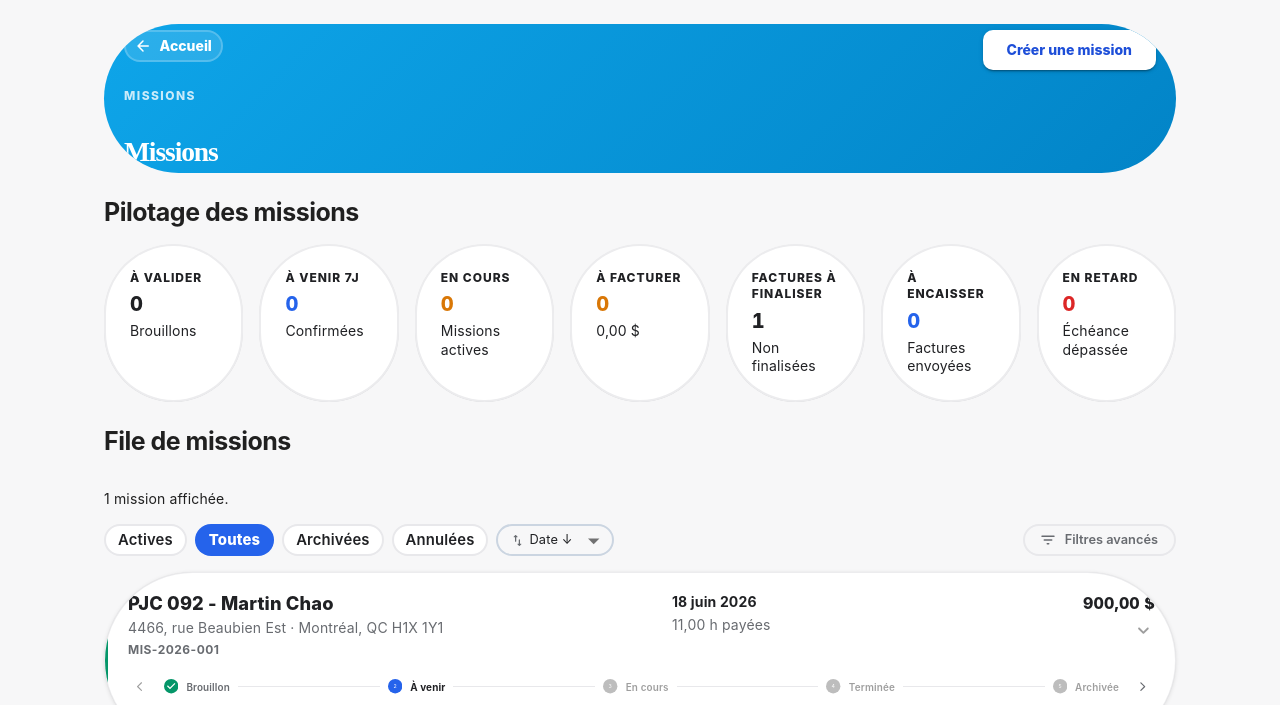
MissionsPage — bidirectional frise navigation › mission frise back step: CONFIRMED with draft invoice → confirmation dialog
The image size is (1280, 705).
Click the button named "Reculer : Mission :".
click(140, 686)  # box [128, 674, 152, 698]
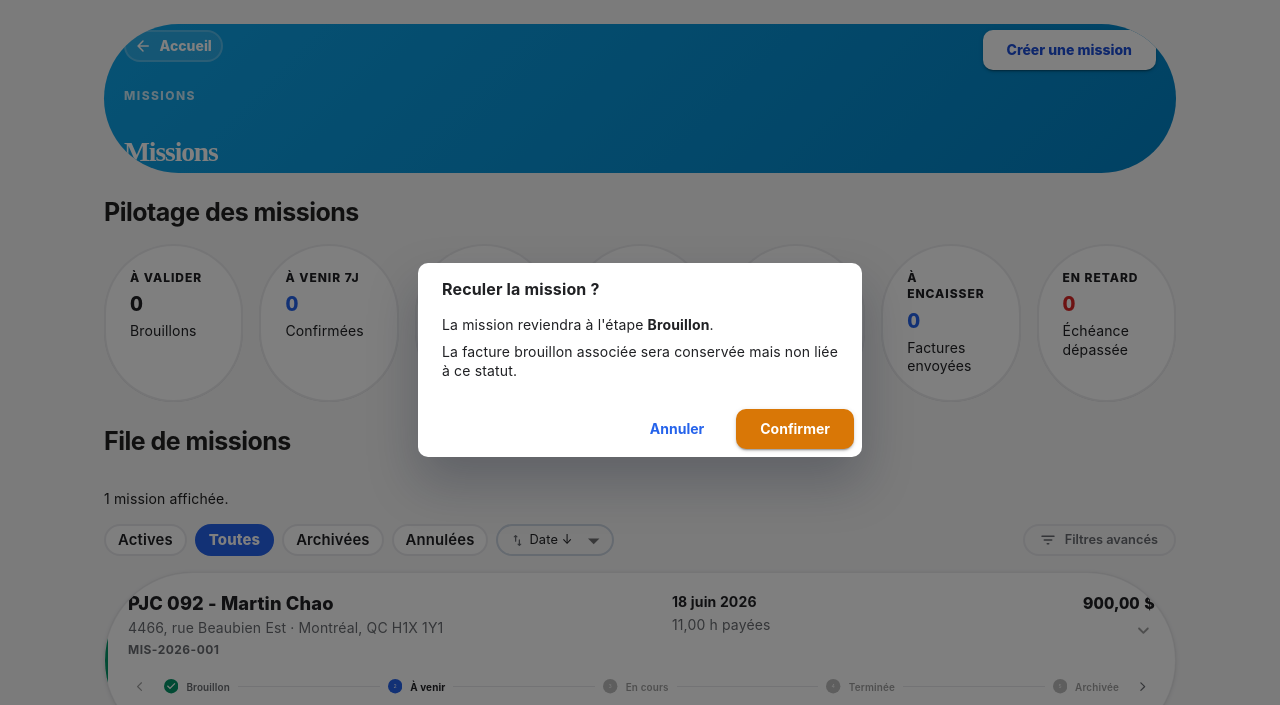
Check: the heading "Reculer la mission ?" is shown, box [442, 279, 600, 299]
